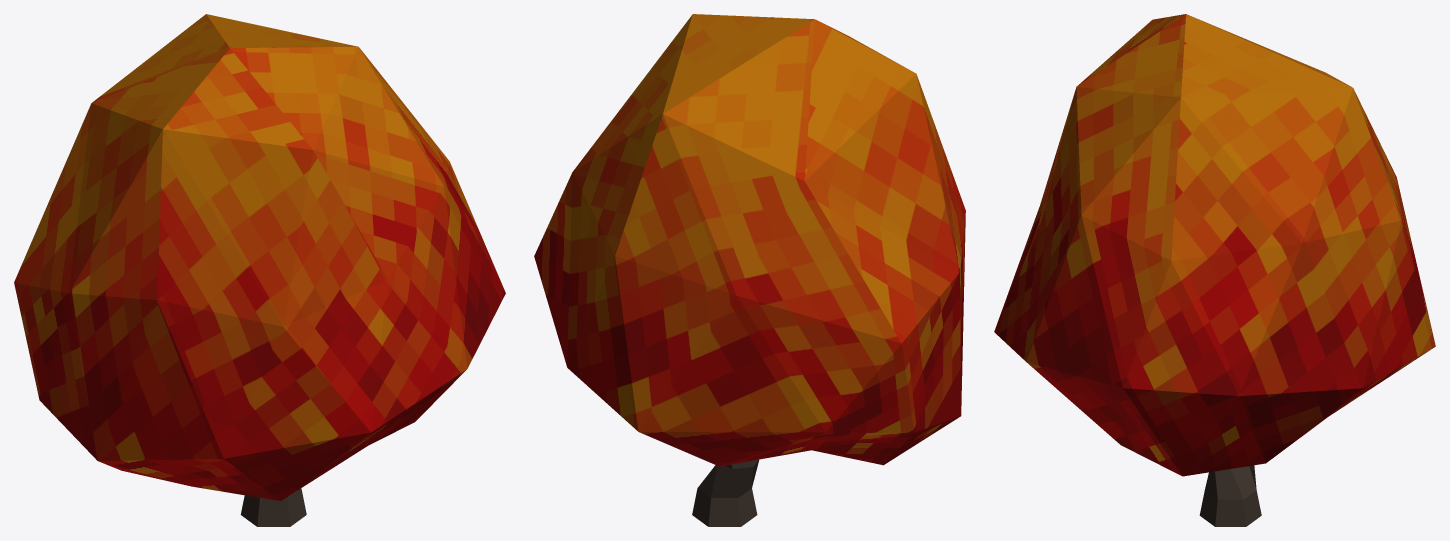
Rendered from treeklonre.glb.
3 views of the same model, side by side, from view 1: azimuth 30°, elevation 25°; view 2: azimuth 150°, elevation 25°; view 3: azimuth 270°, elevation 25° (orthographic). The views are drawn at different scales.
Visible parts, largest first — view 1: Icosphere, Cylinder; view 2: Icosphere, Cylinder; view 3: Icosphere, Cylinder.
Part boxes in pixels (x1,y1,x2,y2): Icosphere: (14, 14, 505, 500); Cylinder: (240, 488, 306, 526); Icosphere: (534, 14, 965, 466); Cylinder: (692, 459, 759, 526); Icosphere: (994, 14, 1435, 476); Cylinder: (1199, 465, 1261, 526).
Size of the model in its own units: 38.74 by 45.22 by 38.47.
2 materials, 1 textured.
